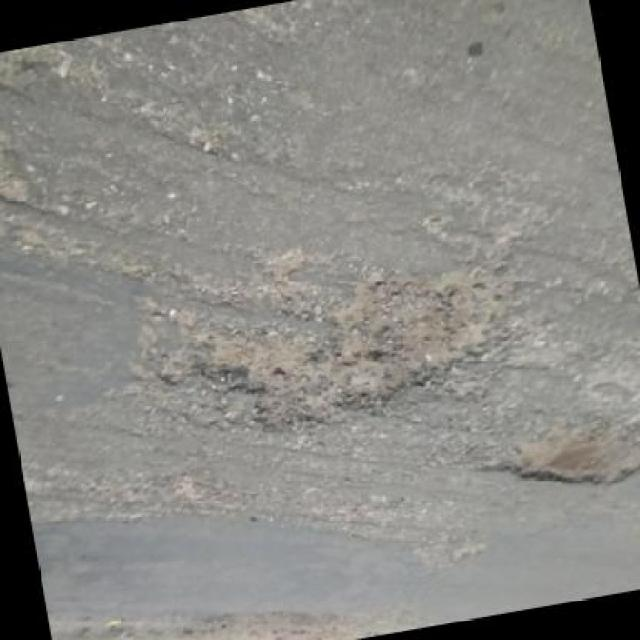pothole1: (144, 256, 516, 462), (472, 405, 638, 512)
